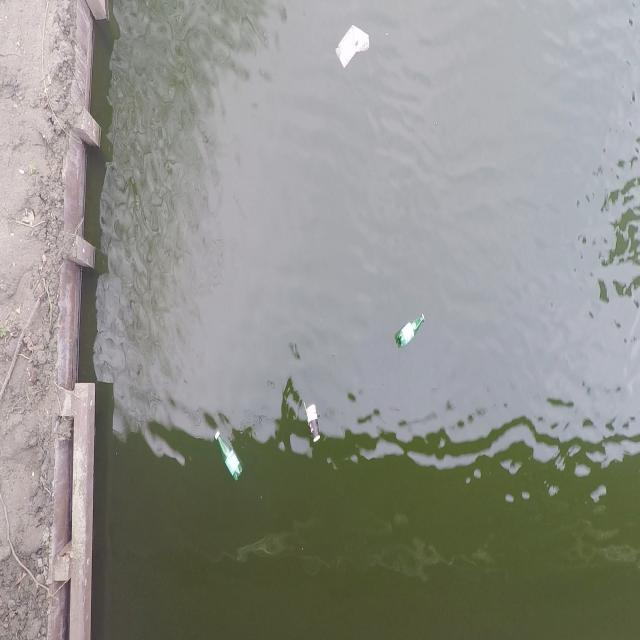Bouteille plastique: (392, 303, 430, 357), (212, 428, 247, 485)
Non plastique: (306, 399, 324, 446)
Sac plastique: (329, 12, 375, 74)
